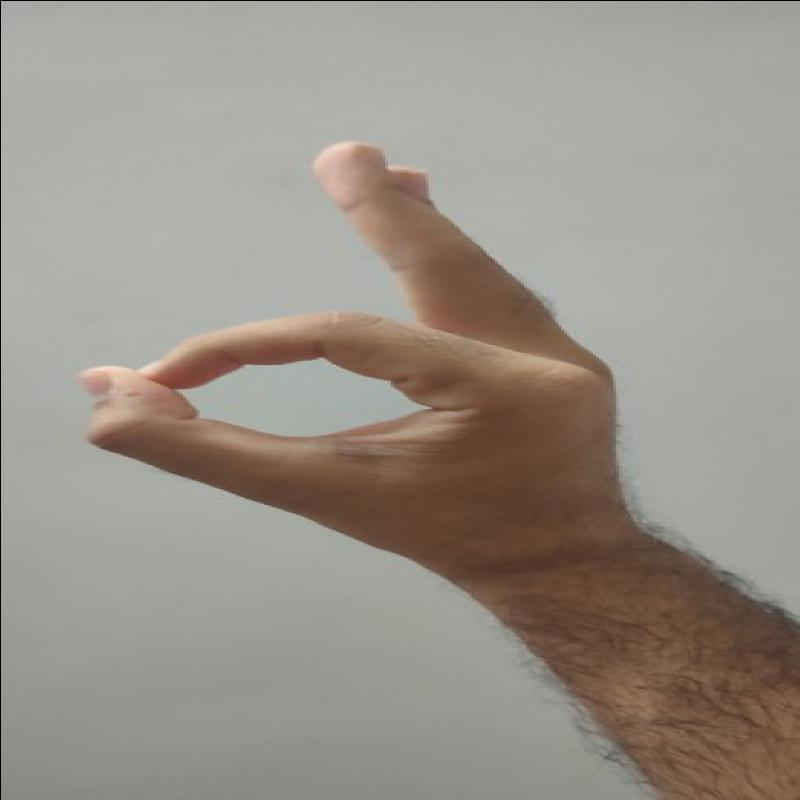Mudraakhyam: (66, 132, 641, 590)
